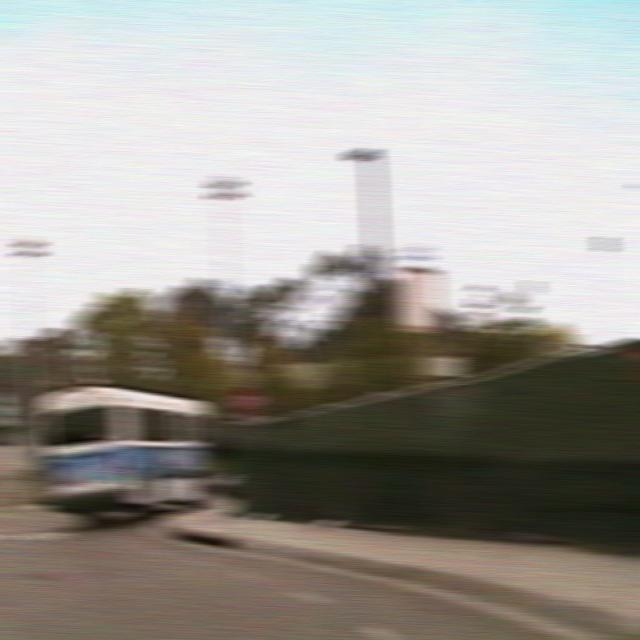stop_sign: (230, 382, 264, 418)
